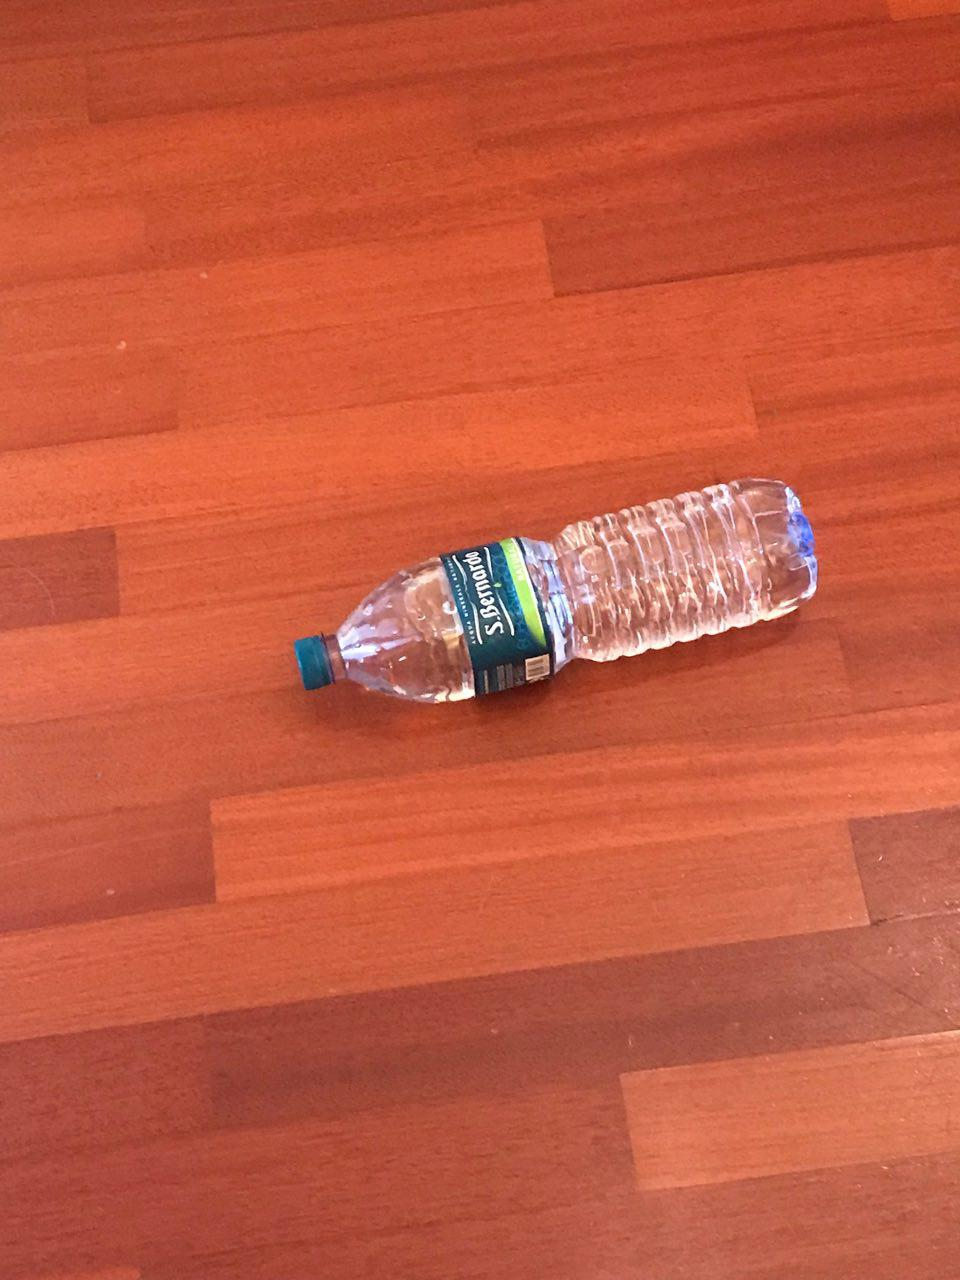san_bernardo: (291, 477, 820, 703)
